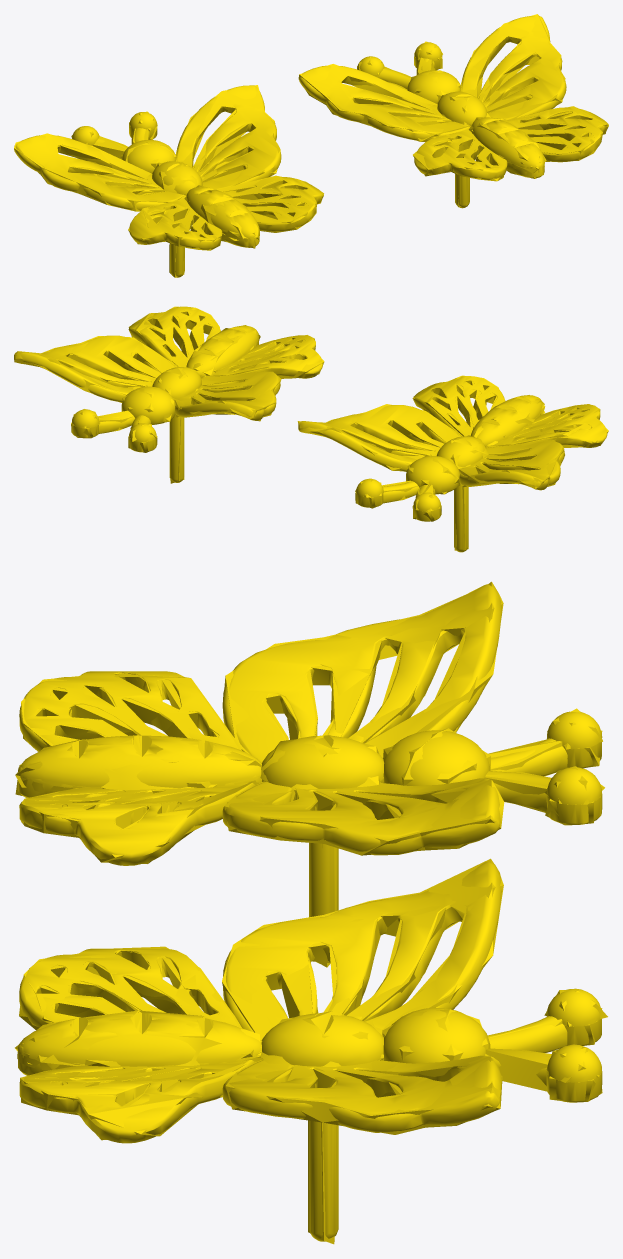
File: GP-SAD0003042.glb
3 views of the same model, one above another, from view 1: azimuth 30°, elevation 25°; view 2: azimuth 150°, elevation 25°; view 3: azimuth 270°, elevation 25° (orthographic). The views are drawn at different scales.
Visible parts, largest first — view 1: highPolyMesh, lowPolyMesh; view 2: highPolyMesh, lowPolyMesh; view 3: highPolyMesh, lowPolyMesh.
Boxes of the visible parts, x1=… form: highPolyMesh: x1=14, y1=16, x2=608, y2=277; lowPolyMesh: x1=14, y1=14, x2=607, y2=277; highPolyMesh: x1=14, y1=306, x2=607, y2=552; lowPolyMesh: x1=14, y1=306, x2=608, y2=550; highPolyMesh: x1=17, y1=584, x2=602, y2=1241; lowPolyMesh: x1=15, y1=581, x2=607, y2=1244.
Size of the model in its own units: 0.0329 by 0.00799 by 0.016.
